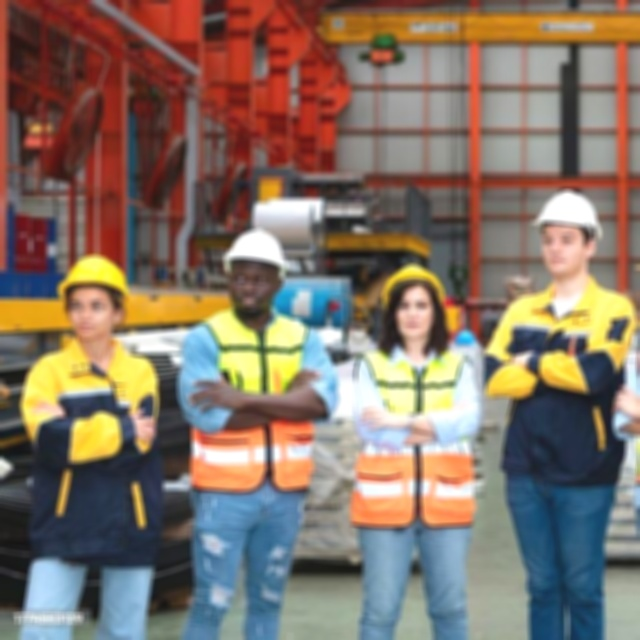Con_Casco: (59, 256, 131, 345), (534, 191, 602, 280), (224, 227, 288, 317), (384, 265, 444, 347)
Con_Chaleco: (184, 313, 321, 491), (354, 348, 477, 526)
